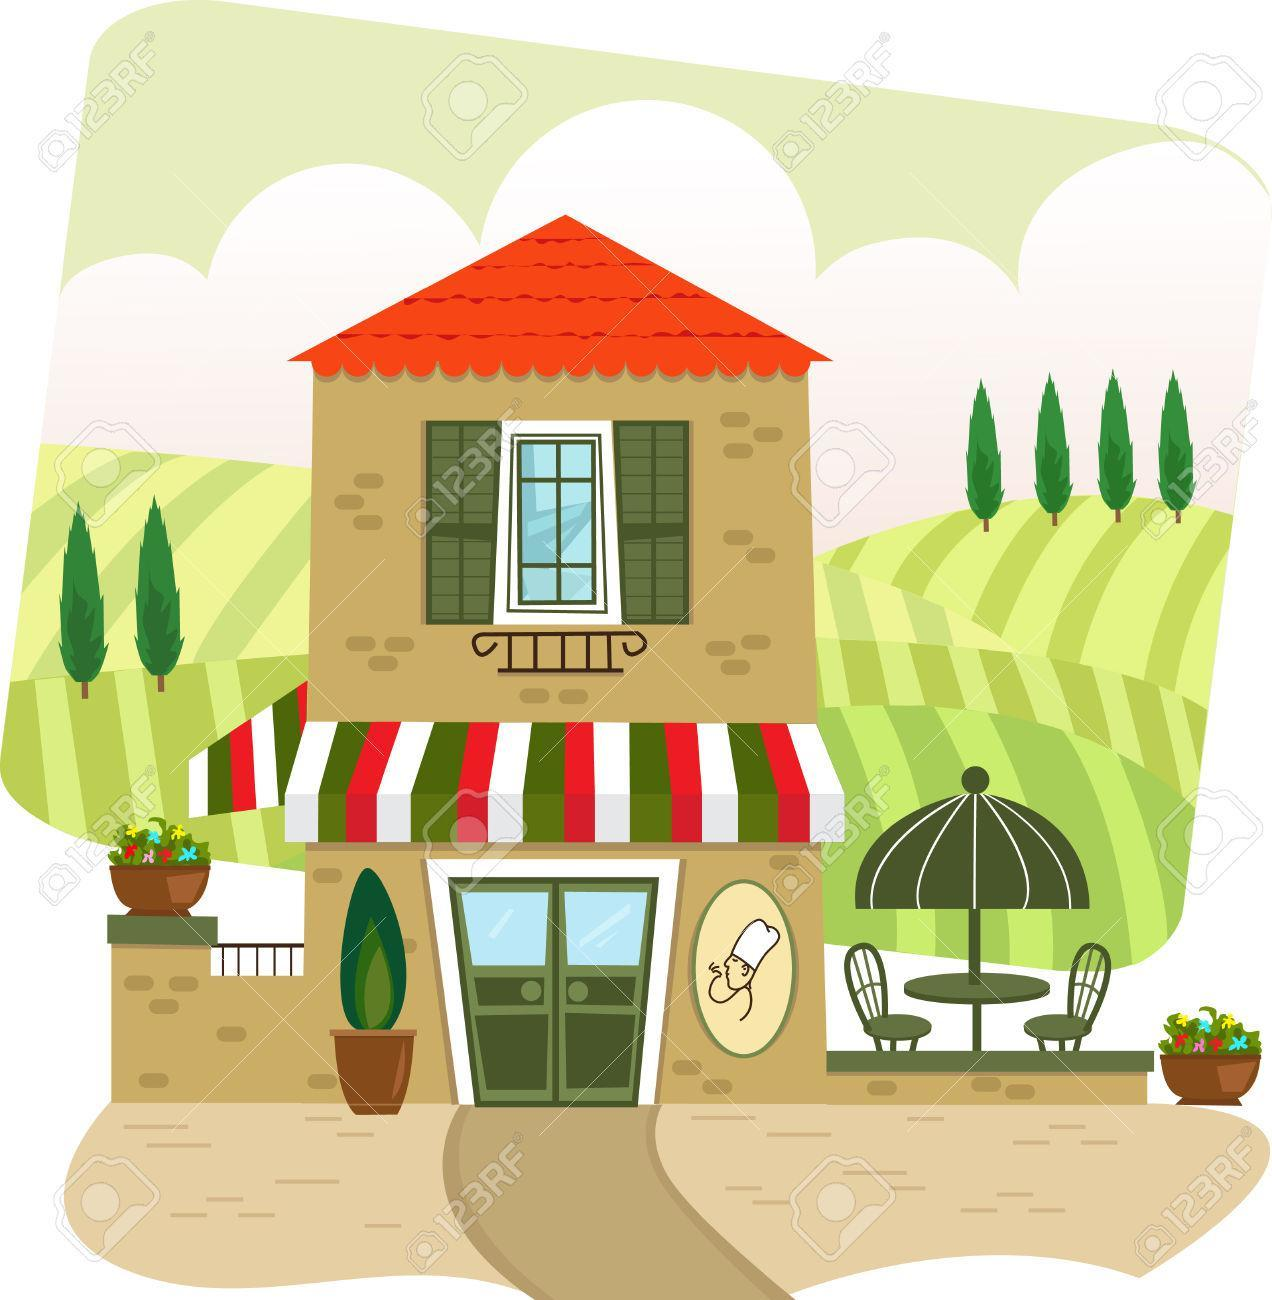chair: (844, 933, 936, 1055), (1027, 938, 1116, 1051)
diningtable: (901, 966, 1049, 1050)
person: (707, 909, 788, 1025)
pottedplant: (322, 862, 422, 1114), (1151, 1001, 1268, 1109), (105, 818, 218, 920)
